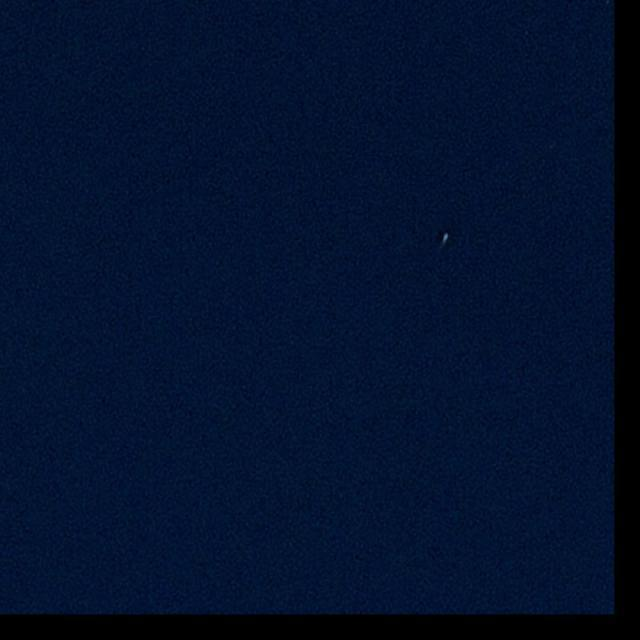ship: (440, 232, 450, 241)
